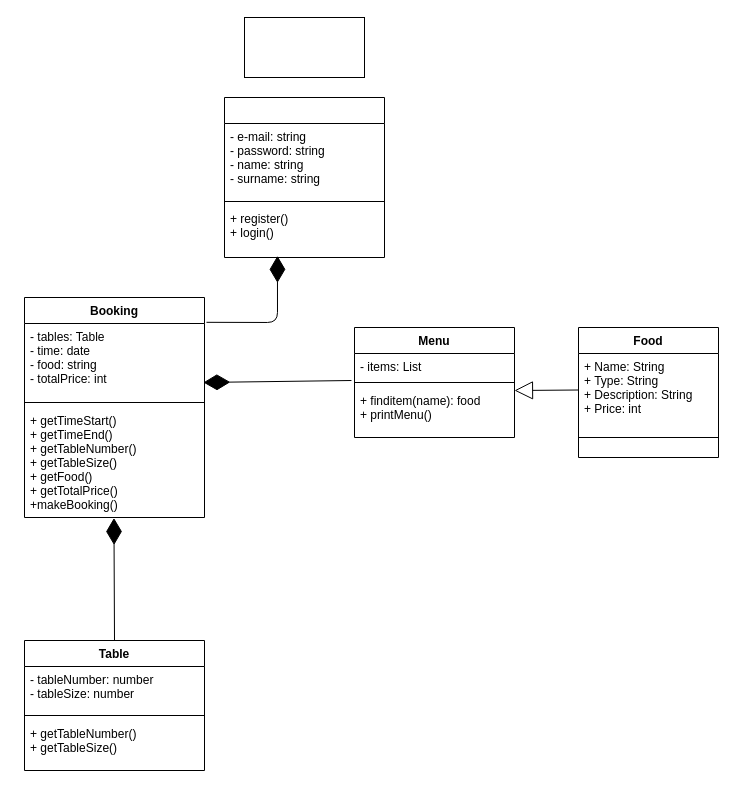
This 736x791 diagram has some shape labels left out. The box of each missing label's shape, as (x1, y1, x2, y2) in pixels:
TableBooking: (244, 16, 364, 78)
User: (224, 96, 384, 258)
